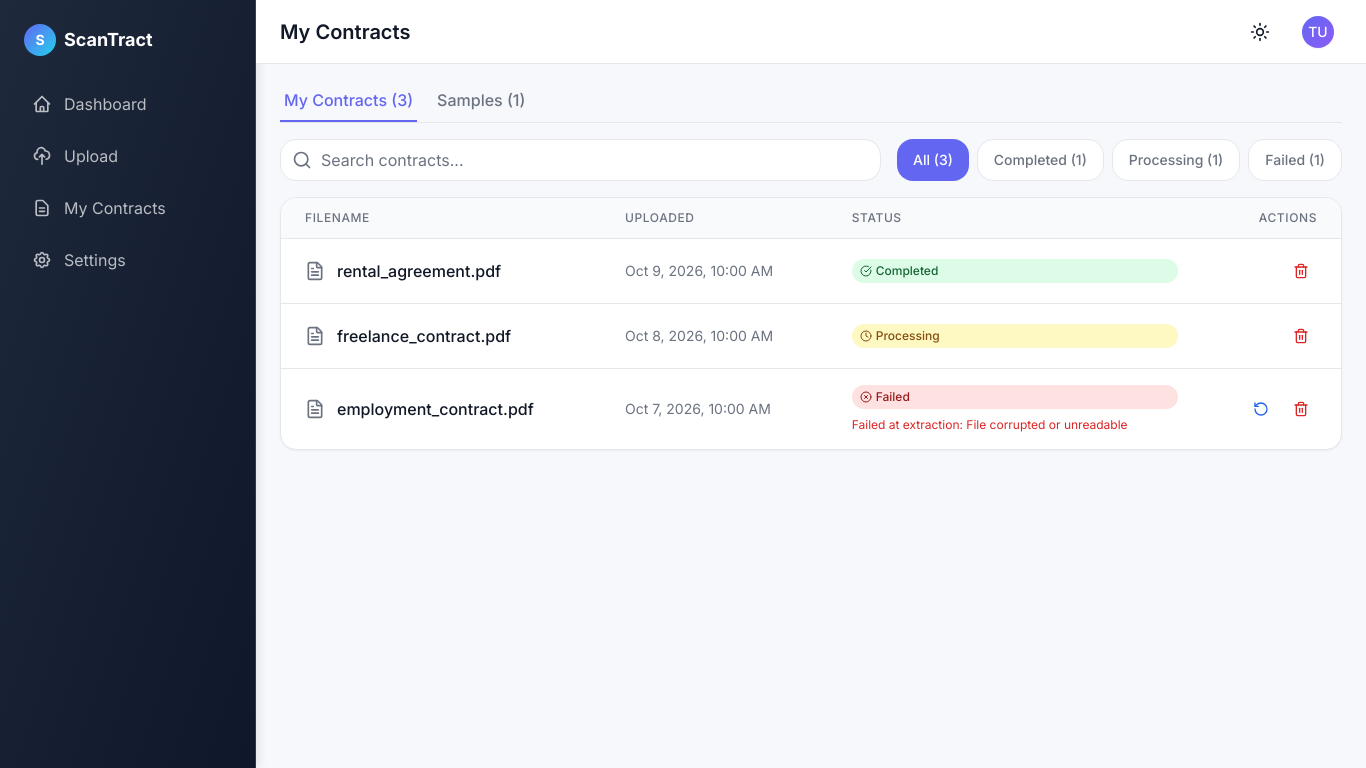
it: ContractsPage › shows API error when delete fails
// Click Delete button (desktop view)
Click the button titled "Delete contract" in the row of "Oct 9, 2026, 10:00 AM": (1301, 271) x1=1285 y1=255 x2=1317 y2=287
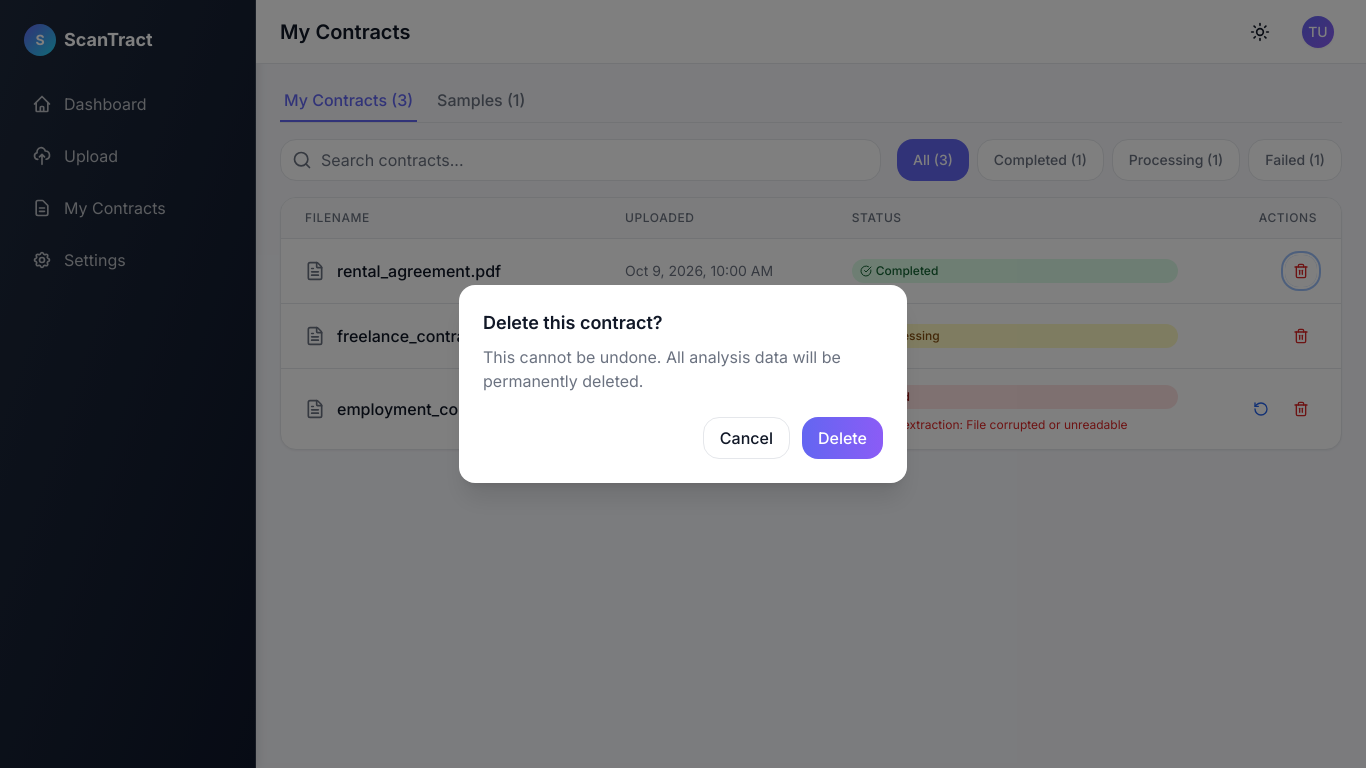
Check: the heading "Delete this contract?" is shown, box x1=483 y1=312 x2=663 y2=333
Click the button "Delete": (842, 438) x1=802 y1=417 x2=883 y2=459
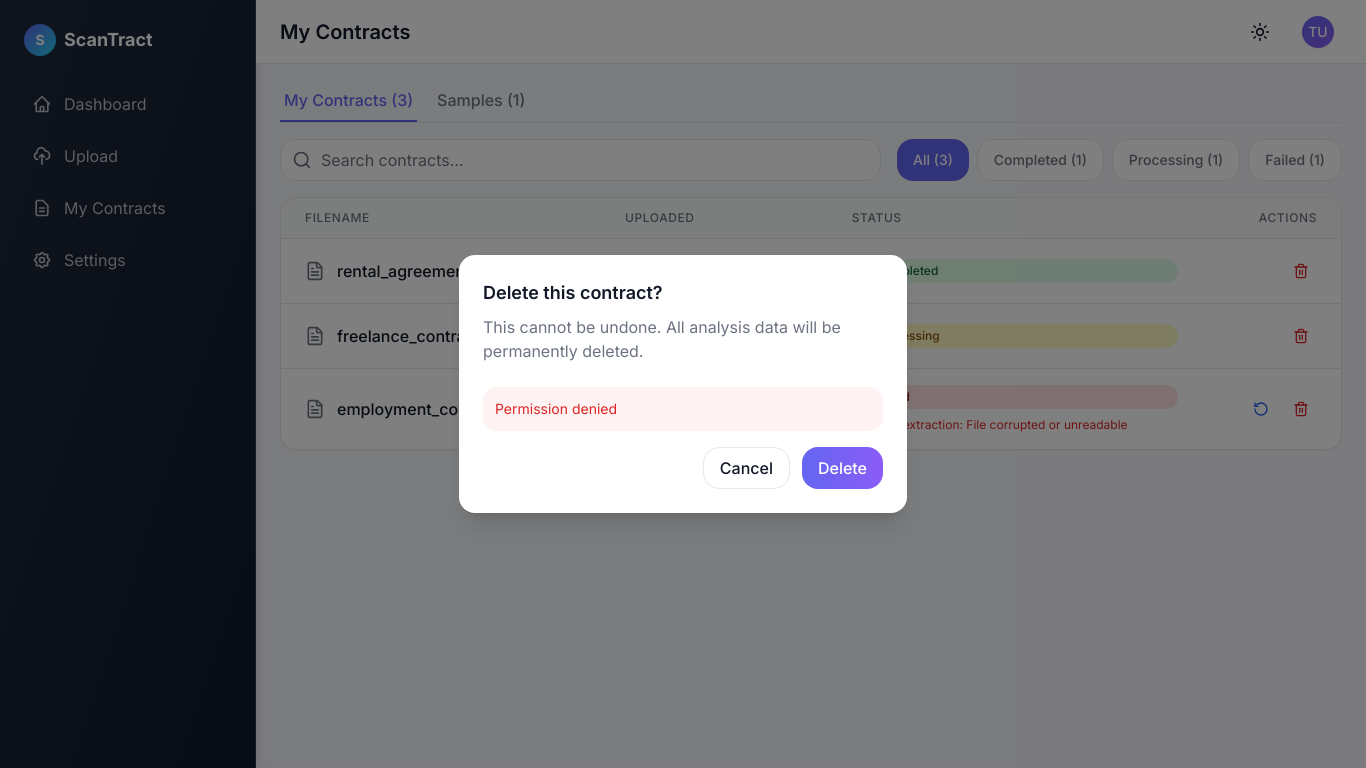
Check: the text "Permission denied" is shown, box x1=483 y1=387 x2=883 y2=431
